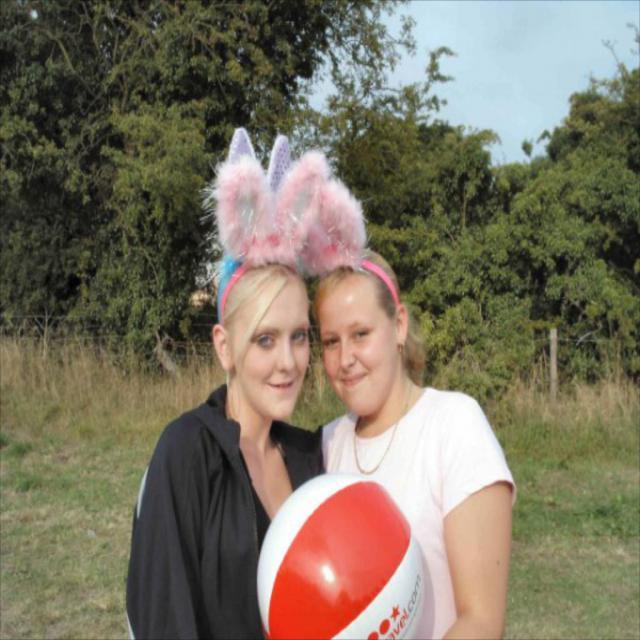football: (257, 483, 449, 640)
